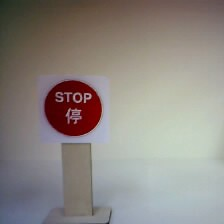stop: (37, 71, 108, 142)
